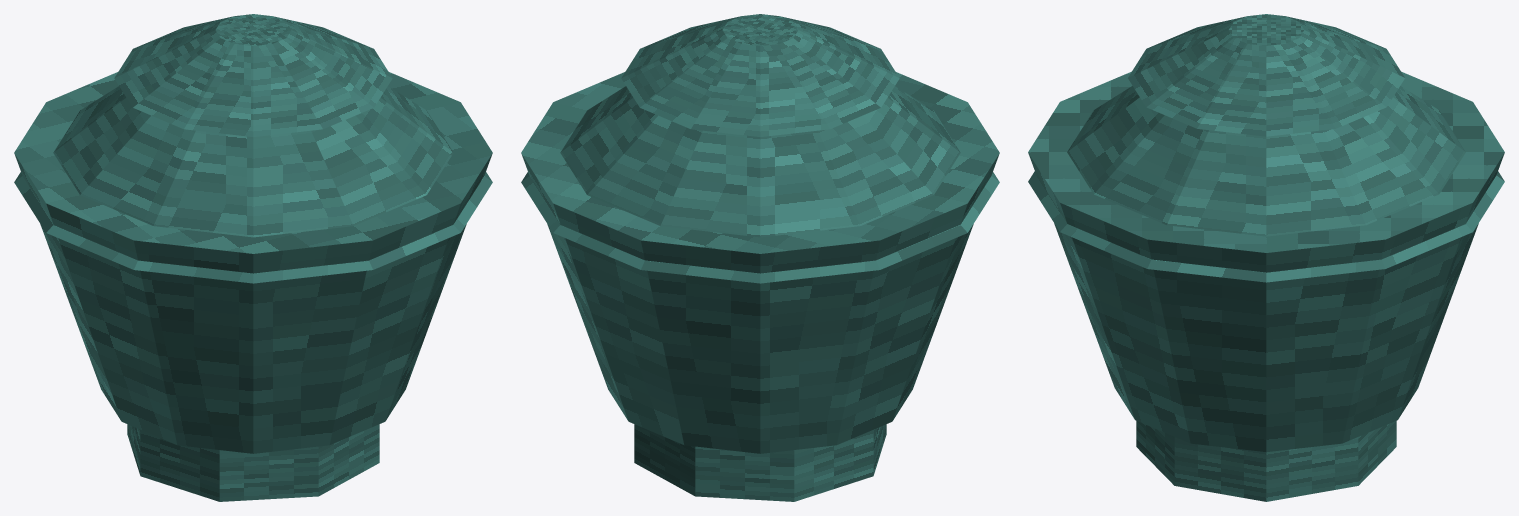
File: urn_53.glb
3 renders of one model, left to right at view 1: azimuth 30°, elevation 25°; view 2: azimuth 150°, elevation 25°; view 3: azimuth 270°, elevation 25°, orthographic.
Parts seen in each view (by area): view 1: Belly, Neck, Lid, Foot; view 2: Belly, Neck, Lid, Foot; view 3: Belly, Neck, Lid, Foot.
Boxes of the visible parts, box(x1,y1,x2,y2) form: Belly: box(14, 72, 492, 453); Neck: box(14, 86, 492, 283); Lid: box(114, 14, 392, 136); Foot: box(127, 424, 379, 501); Belly: box(521, 72, 999, 453); Neck: box(521, 86, 999, 283); Lid: box(621, 14, 899, 136); Foot: box(634, 424, 886, 501); Belly: box(1028, 71, 1504, 452); Neck: box(1028, 86, 1504, 282); Lid: box(1128, 14, 1404, 136); Foot: box(1136, 421, 1396, 501).
Size of the model in its own units: 1.26 by 1.21 by 1.26.
Materials: 1 (1 with a texture image).
